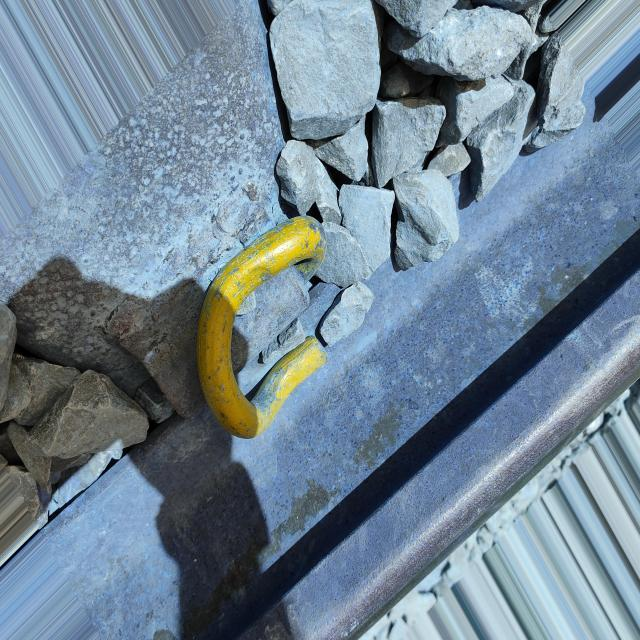Good Fasteners: (96, 175, 331, 446)
